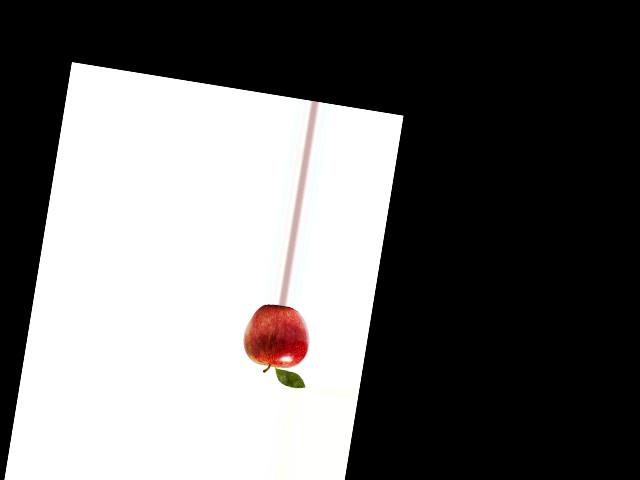apple: (237, 300, 318, 376)
